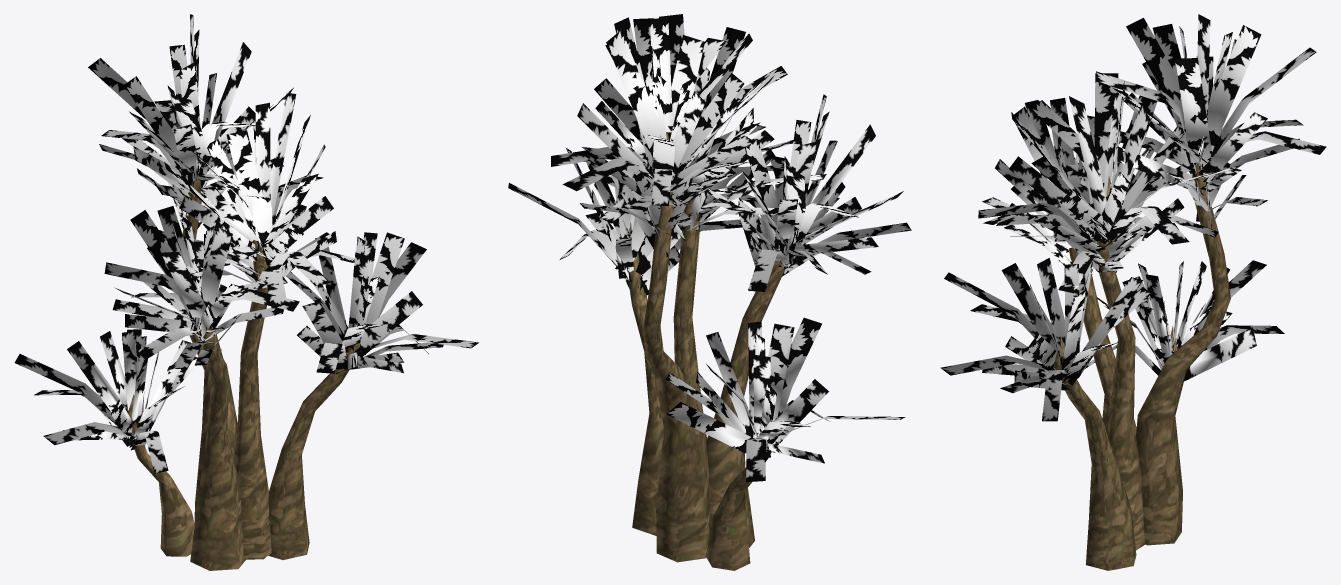
File: P_YuccaTree03.obj
3 renders of one model, left to right at view 1: azimuth 30°, elevation 25°; view 2: azimuth 150°, elevation 25°; view 3: azimuth 270°, elevation 25°, orthographic. The views are drawn at different scales.
Bounding box in the file's own units: 3.4 × 4.39 × 2.95.
